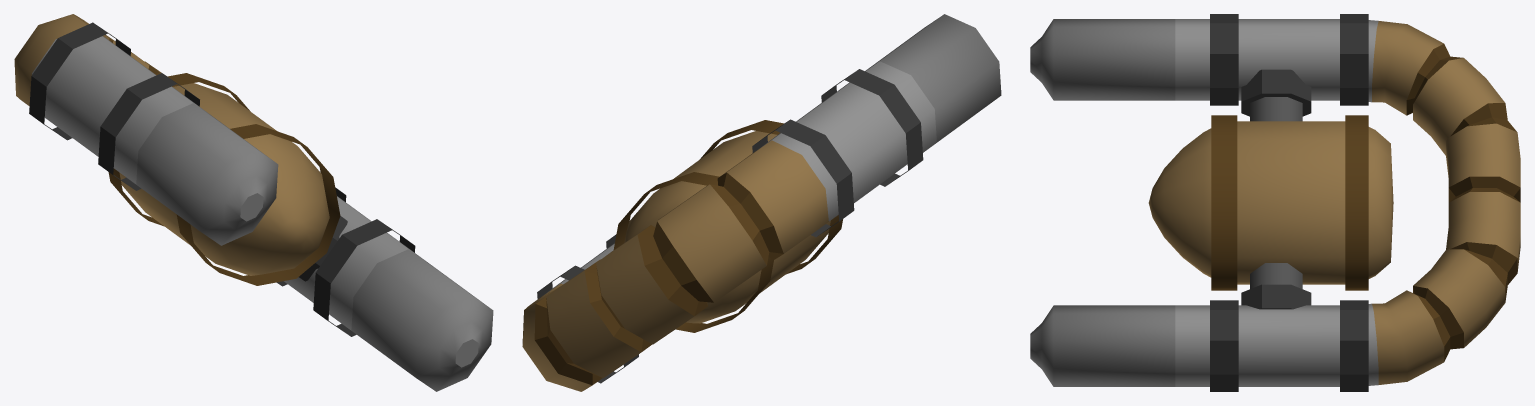
File: newsh2-191-f2.glb
The picture shows the model from 3 angles, left to right: view 1: azimuth 30°, elevation 25°; view 2: azimuth 150°, elevation 25°; view 3: azimuth 270°, elevation 25°; orthographic projection. The views are drawn at different scales.
Visible parts, largest first — view 1: newsh2-191-f2; view 2: newsh2-191-f2; view 3: newsh2-191-f2.
Part boxes in pixels (left/top/right/bottom): newsh2-191-f2: left=14, top=14, right=493, bottom=391; newsh2-191-f2: left=522, top=14, right=1001, bottom=391; newsh2-191-f2: left=1030, top=14, right=1520, bottom=391.
Size of the model in its own units: 1.05 by 0.9845 by 1.57.
